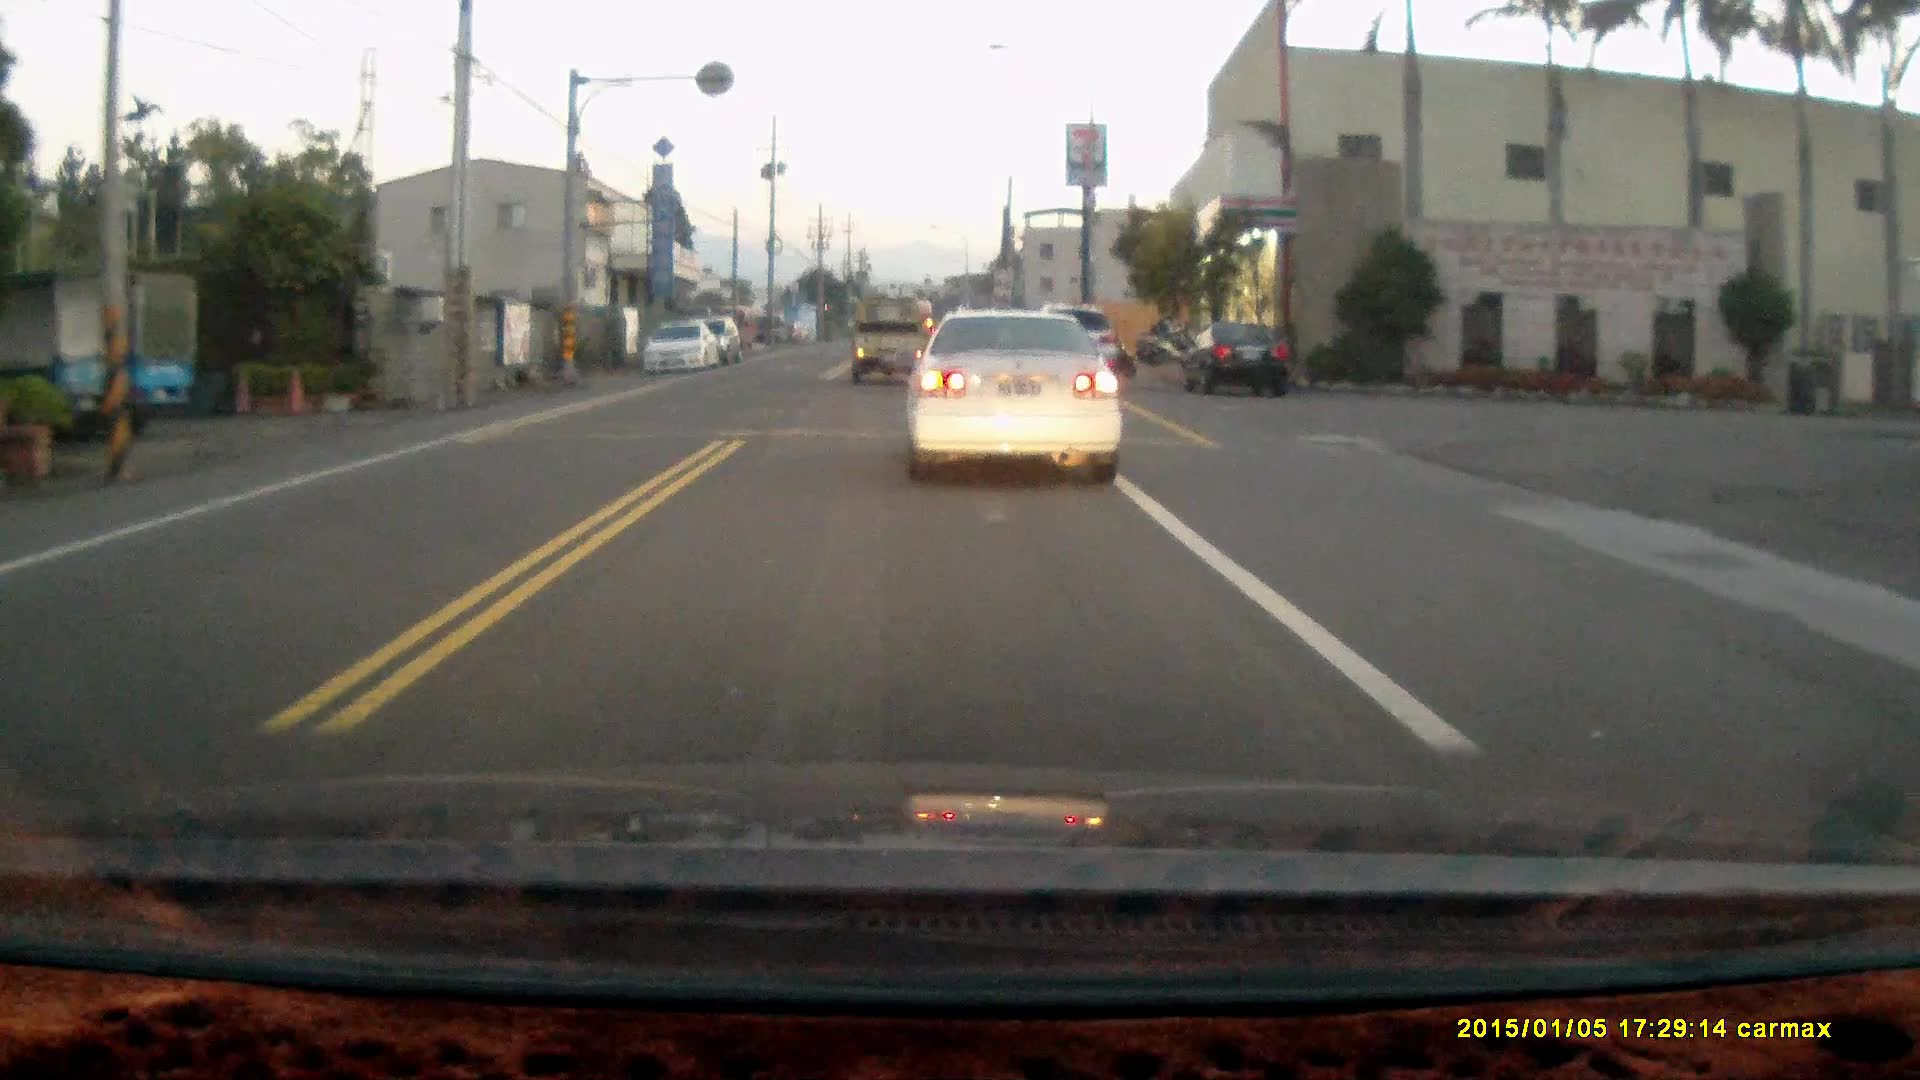vehicle: (911, 307, 1129, 489), (1176, 322, 1288, 402), (845, 287, 932, 376), (634, 316, 723, 372)
